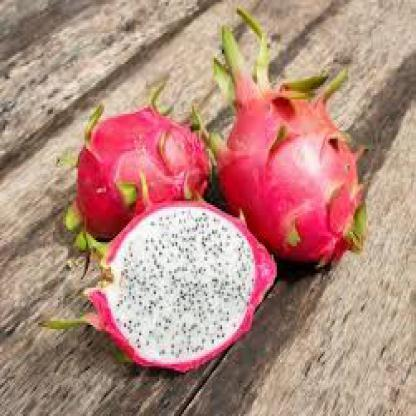dragon-fruit: (96, 199, 266, 371), (216, 84, 360, 268), (75, 112, 213, 235)
